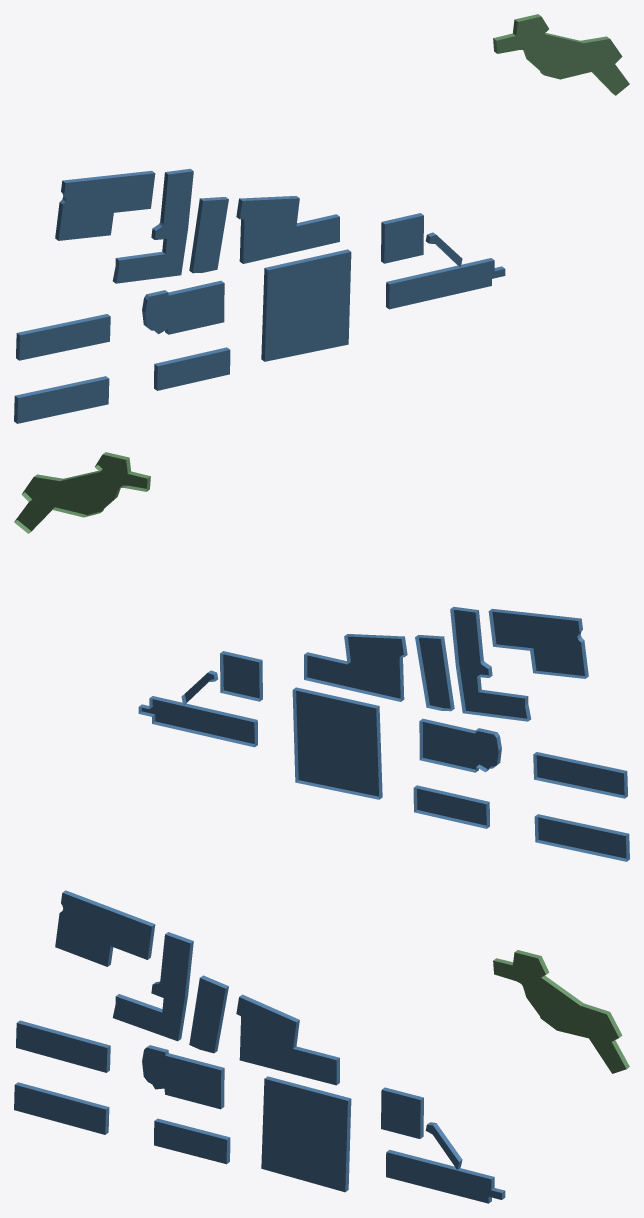
The model's file is buildings_k18.obj.
3 renders of one model, top to bottom at view 1: azimuth 30°, elevation 25°; view 2: azimuth 150°, elevation 25°; view 3: azimuth 330°, elevation 25°, orthographic.
Visible parts, largest first — view 1: roof4, zone4, roof3, zone3; view 2: roof4, zone4, roof3, zone3; view 3: roof4, zone4, roof3, zone3.
Part boxes in pixels (x1,y1,x2,y2): roof4: (17, 171, 505, 423); zone4: (14, 168, 504, 423); roof3: (496, 16, 629, 95); zone3: (493, 14, 614, 94); roof4: (142, 609, 626, 858); zone4: (138, 606, 629, 861); roof3: (17, 455, 147, 530); zone3: (14, 452, 150, 533); roof4: (14, 893, 501, 1203); zone4: (15, 890, 505, 1203); roof3: (493, 952, 626, 1073); zone3: (493, 950, 629, 1068).
Bounding box in the file's own units: 451 × 199 × 4.33.
